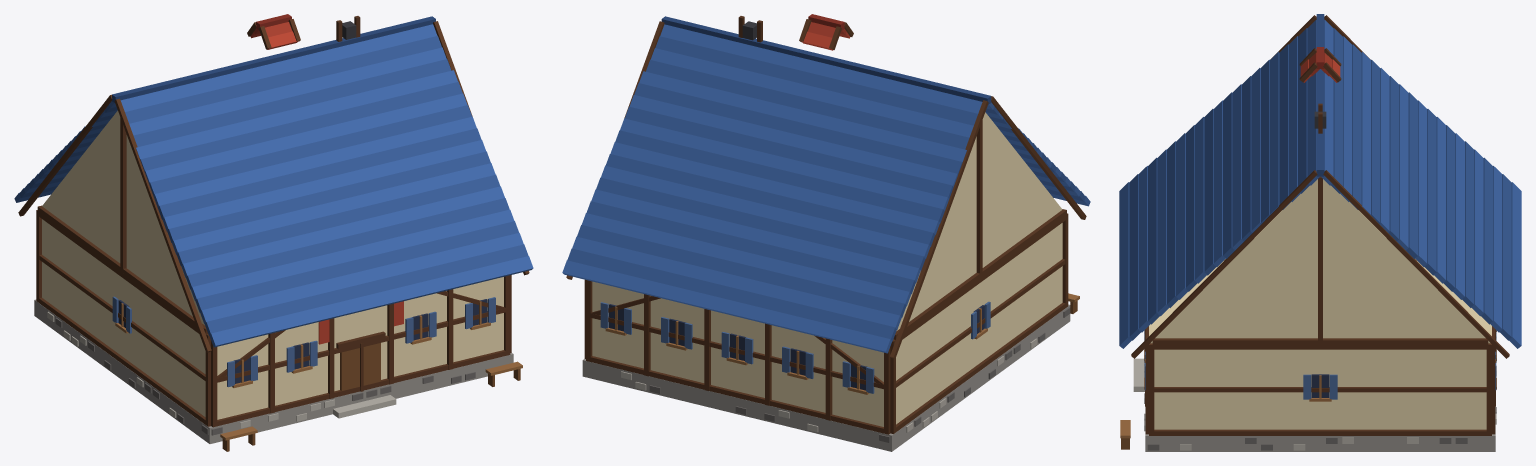
File: meeting_hall_lv3.glb
The picture shows the model from 3 angles, left to right: view 1: azimuth 30°, elevation 25°; view 2: azimuth 150°, elevation 25°; view 3: azimuth 270°, elevation 25°; orthographic projection.
Visible parts, largest first — view 1: roof_blue, roof_blue_mid, plaster, timber, footing, ridge, shutter_blue, plank_dark, stone_light, plank, window, stone_dark (+1 smaller); view 2: roof_blue, roof_blue_mid, plaster, timber, footing, ridge, shutter_blue, window, plank, stone_dark, stone_light; view 3: plaster, roof_blue, roof_blue_mid, timber, footing, ridge, stone_light, shutter_blue, stone_dark, plank.
Part boxes in pixels (box(x1,y1,x2,y2)): roof_blue: box(14, 24, 533, 347); roof_blue_mid: box(19, 36, 528, 335); plaster: box(42, 110, 503, 419); timber: box(18, 16, 529, 427); footing: box(34, 299, 513, 443); ridge: box(112, 16, 435, 103); shutter_blue: box(112, 296, 495, 387); plank_dark: box(222, 343, 520, 451); stone_light: box(47, 311, 396, 428); plank: box(115, 301, 522, 440); window: box(118, 299, 487, 383); stone_dark: box(55, 317, 475, 435); roof_blue: box(562, 24, 1090, 353); roof_blue_mid: box(567, 36, 1085, 341); plaster: box(592, 112, 1062, 426); timber: box(566, 16, 1086, 434); footing: box(582, 304, 1070, 451); ridge: box(661, 16, 991, 104); shutter_blue: box(600, 301, 990, 393); window: box(609, 304, 984, 390); plank: box(605, 293, 1079, 394); stone_dark: box(649, 307, 1070, 442); stone_light: box(621, 338, 1037, 432); plaster: box(1149, 179, 1491, 429); roof_blue: box(1119, 20, 1521, 348); roof_blue_mid: box(1129, 28, 1511, 340); timber: box(1131, 15, 1509, 435); footing: box(1145, 407, 1495, 451); ridge: box(1316, 14, 1324, 176); stone_light: box(1133, 332, 1496, 450); shutter_blue: box(1144, 330, 1496, 399); stone_dark: box(1144, 361, 1496, 450); plank: box(1120, 330, 1496, 438).
Bounding box in the file's own units: 5.03 × 4.84 × 5.45.
